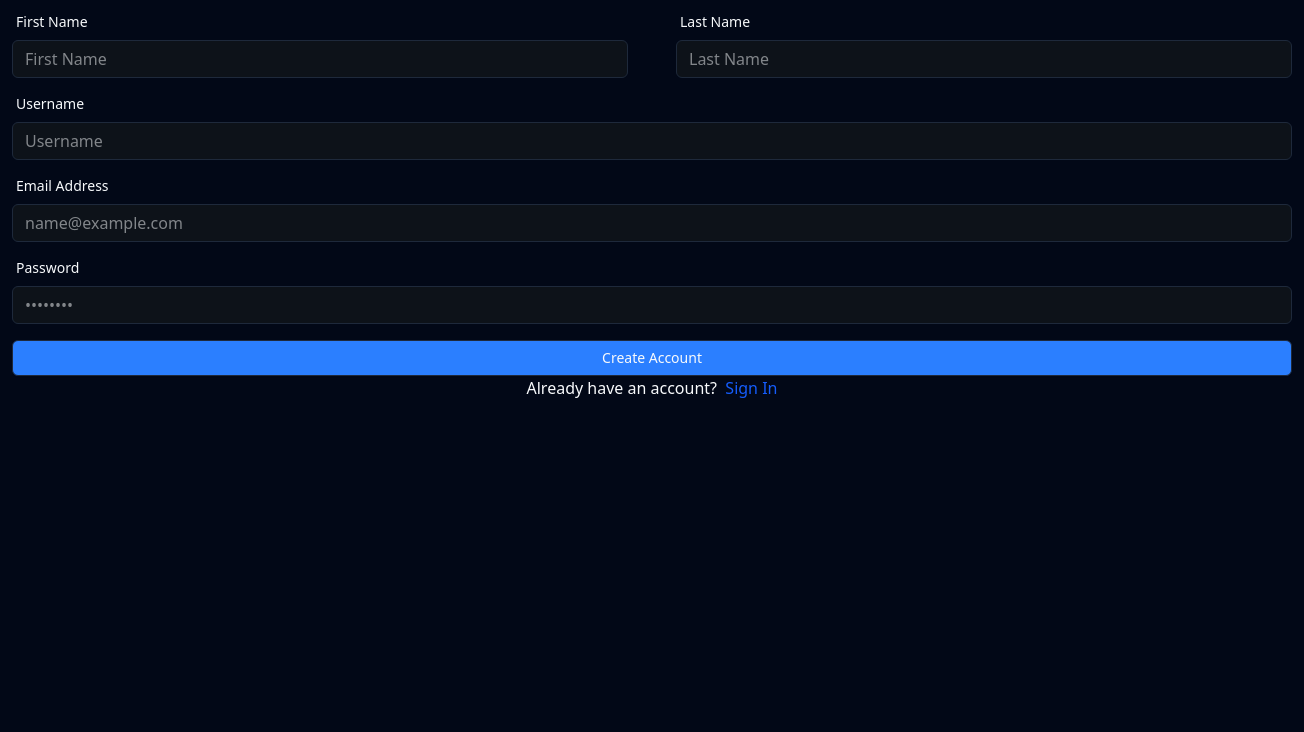
SignUpForm › Step 1: Account Creation › shows validation errors if fields are empty on submit
Click the button "Create Account". click: (652,358)
box: [12,340,1292,376]
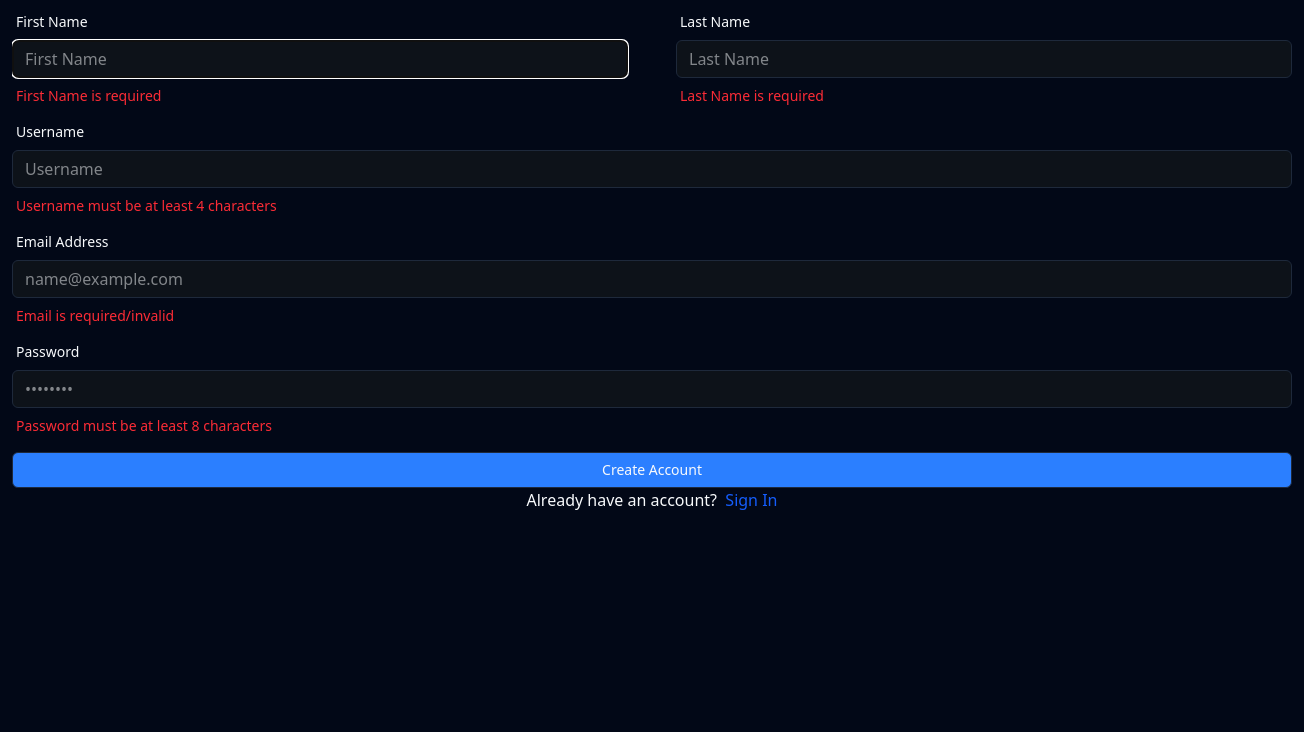
expect the text "First Name is required" is shown: met, box [16,86,161,105]
expect the text "Last Name is required" is shown: met, box [680,86,824,105]
expect the text "Username must be at least 4 characters" is shown: met, box [16,196,277,215]
